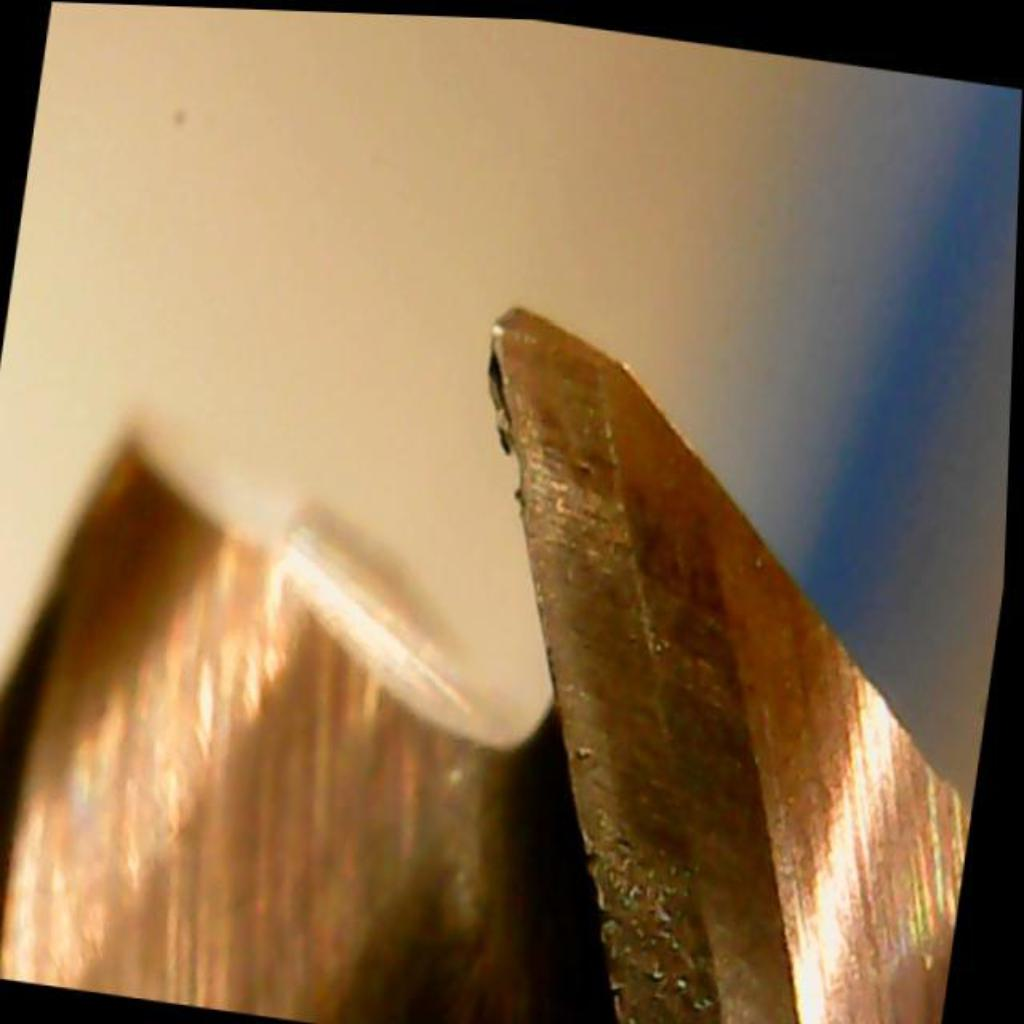Tool-wear-class-1: (390, 284, 745, 664)
